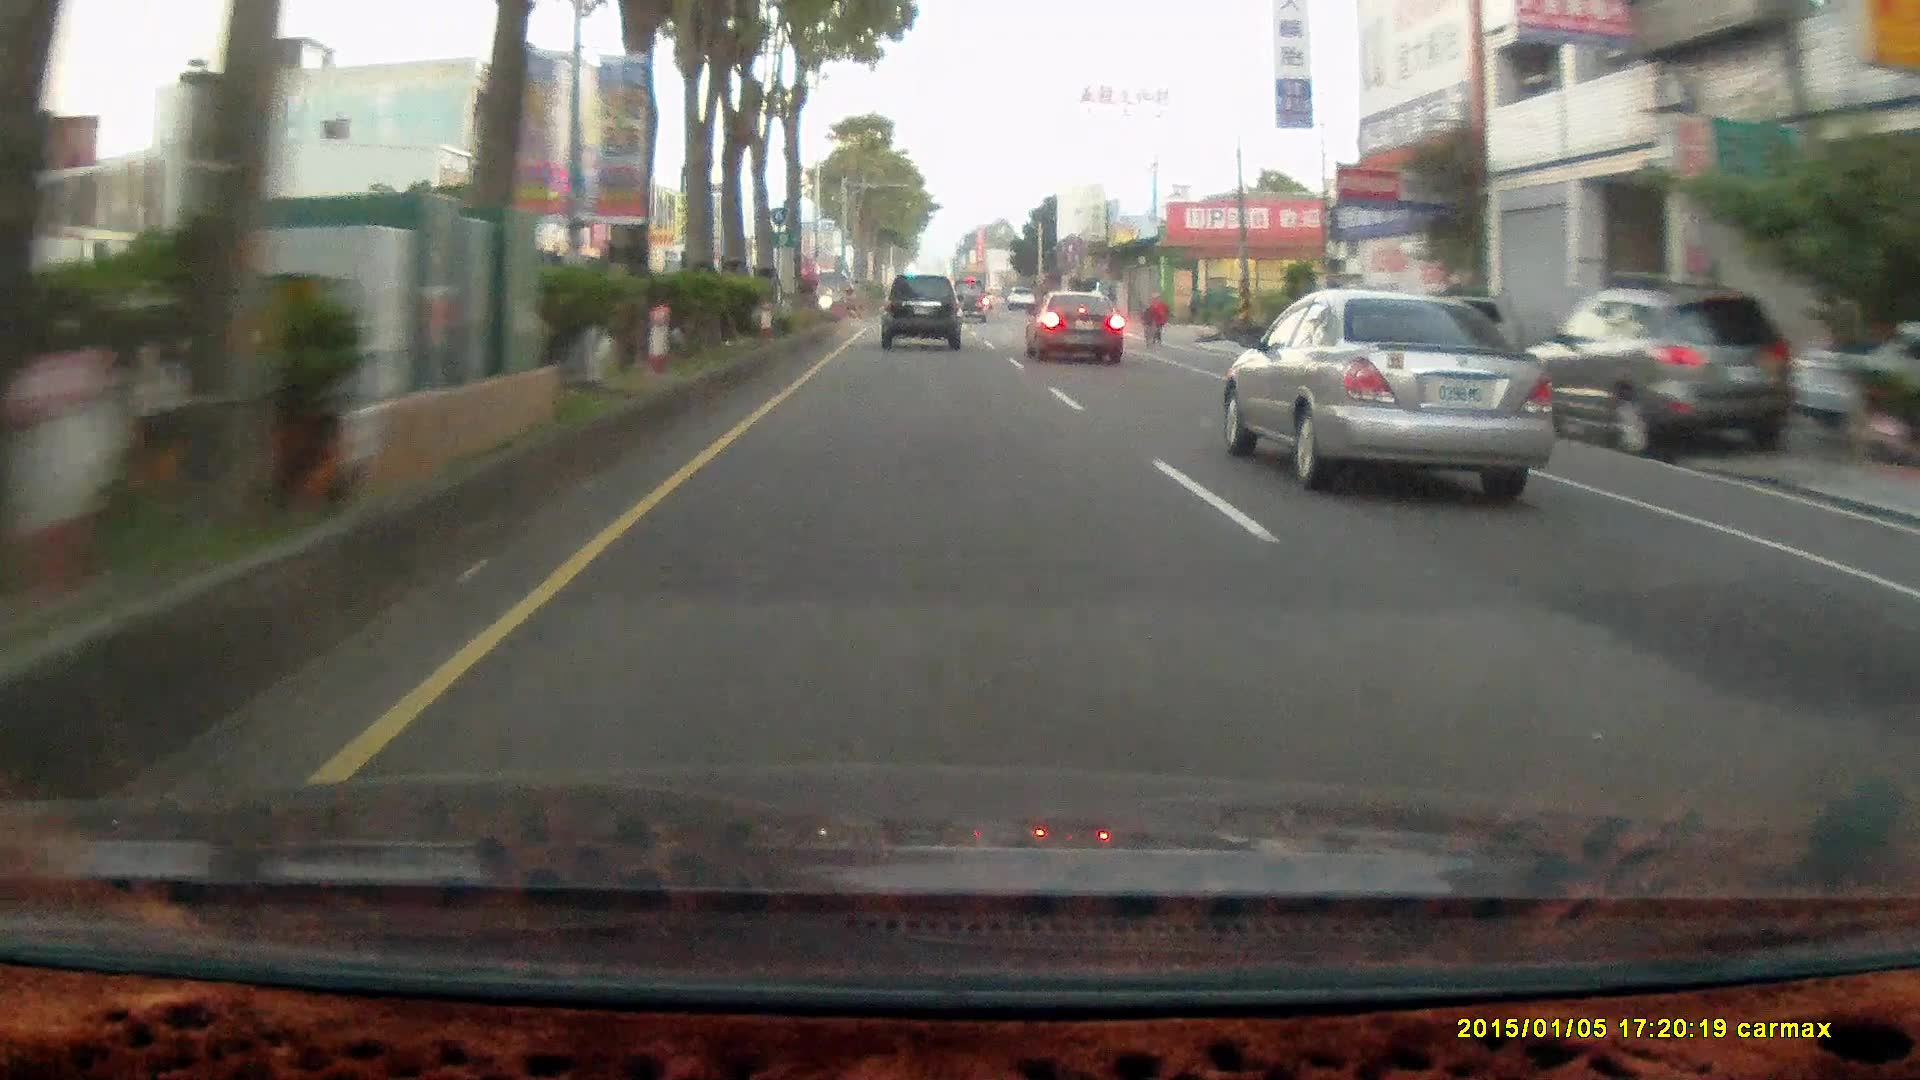pedestrian: (1148, 292, 1168, 344), (1149, 297, 1169, 347)
vehicle: (1224, 294, 1551, 485), (1520, 287, 1799, 459), (1516, 287, 1795, 458), (1783, 313, 1920, 443), (1023, 296, 1128, 372), (1024, 289, 1123, 365), (880, 279, 968, 353), (880, 277, 961, 352), (950, 283, 989, 329)
